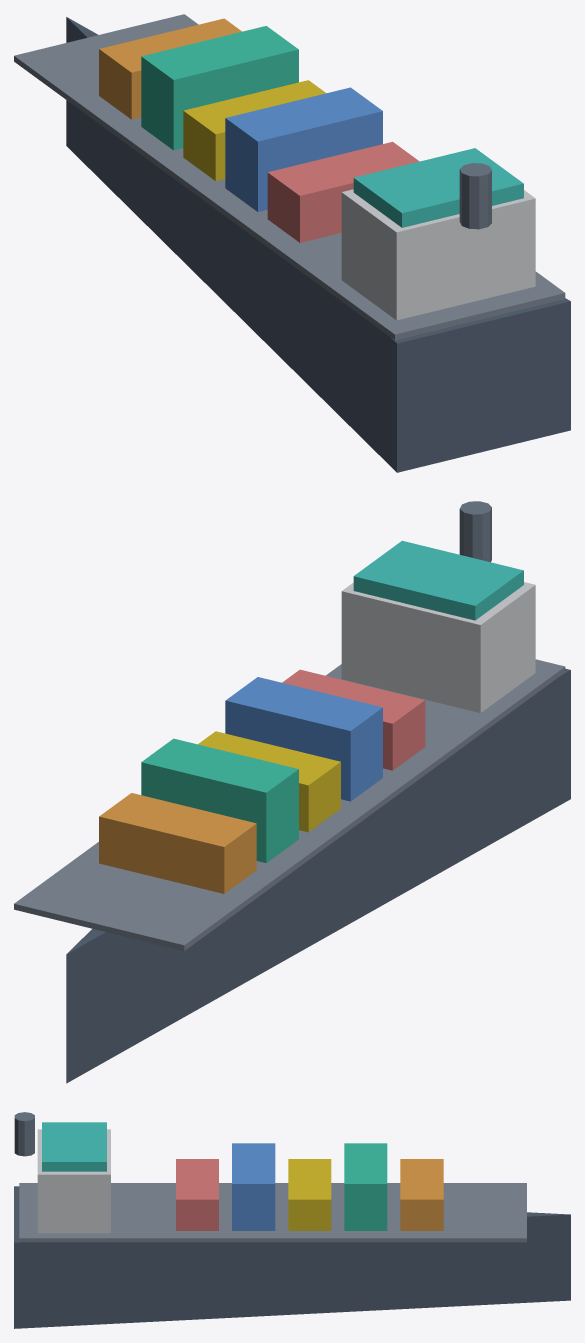
Rendered from cargo_ship.glb.
The picture shows the model from 3 angles, top to bottom: view 1: azimuth 30°, elevation 25°; view 2: azimuth 150°, elevation 25°; view 3: azimuth 270°, elevation 25°; orthographic projection. The views are drawn at different scales.
Visible parts, largest first — view 1: geometry_0, geometry_1, geometry_2, geometry_6, geometry_8, geometry_5, geometry_3, geometry_9, geometry_7, geometry_4; view 2: geometry_0, geometry_1, geometry_2, geometry_9, geometry_8, geometry_6, geometry_3, geometry_5, geometry_7, geometry_4; view 3: geometry_0, geometry_1, geometry_2, geometry_6, geometry_8, geometry_3, geometry_7, geometry_9, geometry_5, geometry_4.
Boxes of the visible parts, x1=… form: geometry_0: x1=66, y1=17, x2=570, y2=472; geometry_1: x1=14, y1=14, x2=565, y2=340; geometry_2: x1=341, y1=189, x2=535, y2=320; geometry_6: x1=225, y1=87, x2=382, y2=211; geometry_8: x1=141, y1=26, x2=298, y2=150; geometry_5: x1=267, y1=141, x2=419, y2=242; geometry_3: x1=353, y1=148, x2=523, y2=227; geometry_9: x1=99, y1=18, x2=241, y2=119; geometry_7: x1=183, y1=80, x2=325, y2=180; geometry_4: x1=459, y1=163, x2=491, y2=229; geometry_0: x1=66, y1=668, x2=570, y2=1083; geometry_1: x1=14, y1=659, x2=565, y2=950; geometry_2: x1=341, y1=582, x2=535, y2=712; geometry_9: x1=99, y1=793, x2=256, y2=893; geometry_8: x1=141, y1=738, x2=298, y2=863; geometry_6: x1=225, y1=677, x2=382, y2=801; geometry_3: x1=353, y1=540, x2=523, y2=620; geometry_5: x1=282, y1=669, x2=425, y2=770; geometry_7: x1=198, y1=731, x2=340, y2=832; geometry_4: x1=459, y1=501, x2=491, y2=562; geometry_0: x1=14, y1=1186, x2=570, y2=1328; geometry_1: x1=19, y1=1183, x2=526, y2=1242; geometry_2: x1=37, y1=1129, x2=110, y2=1233; geometry_6: x1=232, y1=1143, x2=275, y2=1230; geometry_8: x1=344, y1=1143, x2=387, y2=1230; geometry_3: x1=42, y1=1122, x2=106, y2=1171; geometry_7: x1=288, y1=1159, x2=331, y2=1230; geometry_9: x1=400, y1=1159, x2=443, y2=1230; geometry_5: x1=176, y1=1159, x2=218, y2=1230; geometry_4: x1=14, y1=1112, x2=34, y2=1156.
Bounding box in the file's own units: 0.62 × 0.94 × 2.58.
